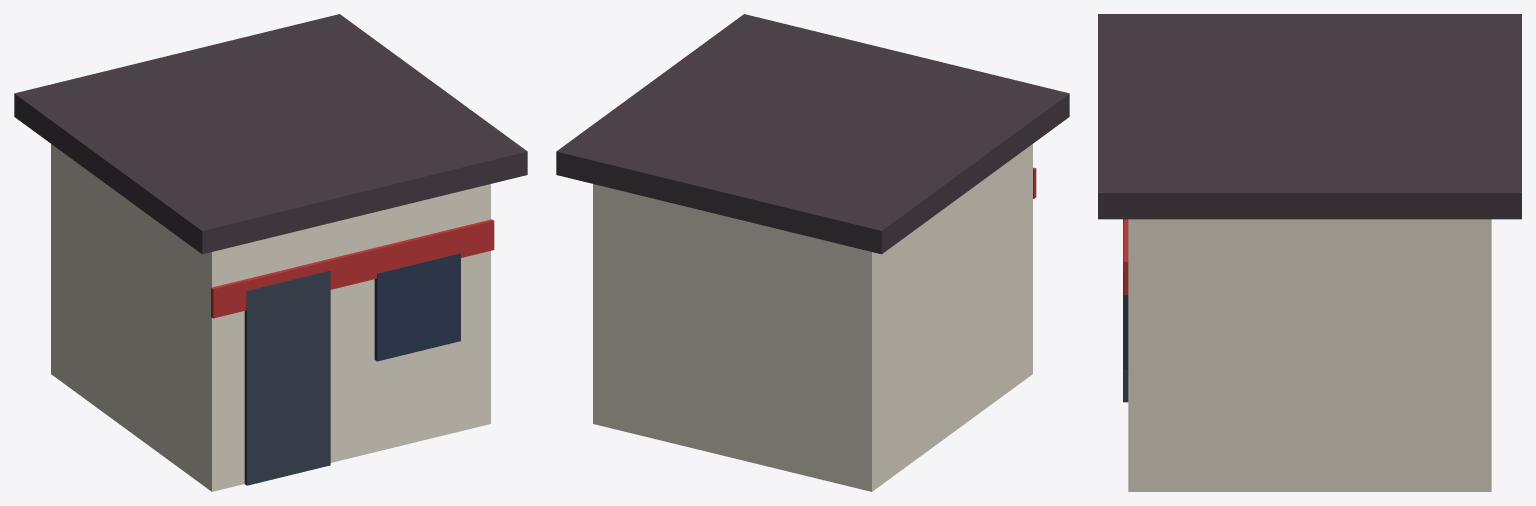
Rendered from border_hut.glb.
3 renders of one model, left to right at view 1: azimuth 30°, elevation 25°; view 2: azimuth 150°, elevation 25°; view 3: azimuth 270°, elevation 25°, orthographic. The views are drawn at different scales.
Parts seen in each view (by area): view 1: border_hut; view 2: border_hut; view 3: border_hut.
Boxes of the visible parts, box(x1,y1,x2,y2) form: border_hut: box(14, 14, 527, 491); border_hut: box(556, 14, 1069, 491); border_hut: box(1098, 14, 1521, 491).
Bounding box in the file's own units: 3.5 × 2.84 × 3.5.
